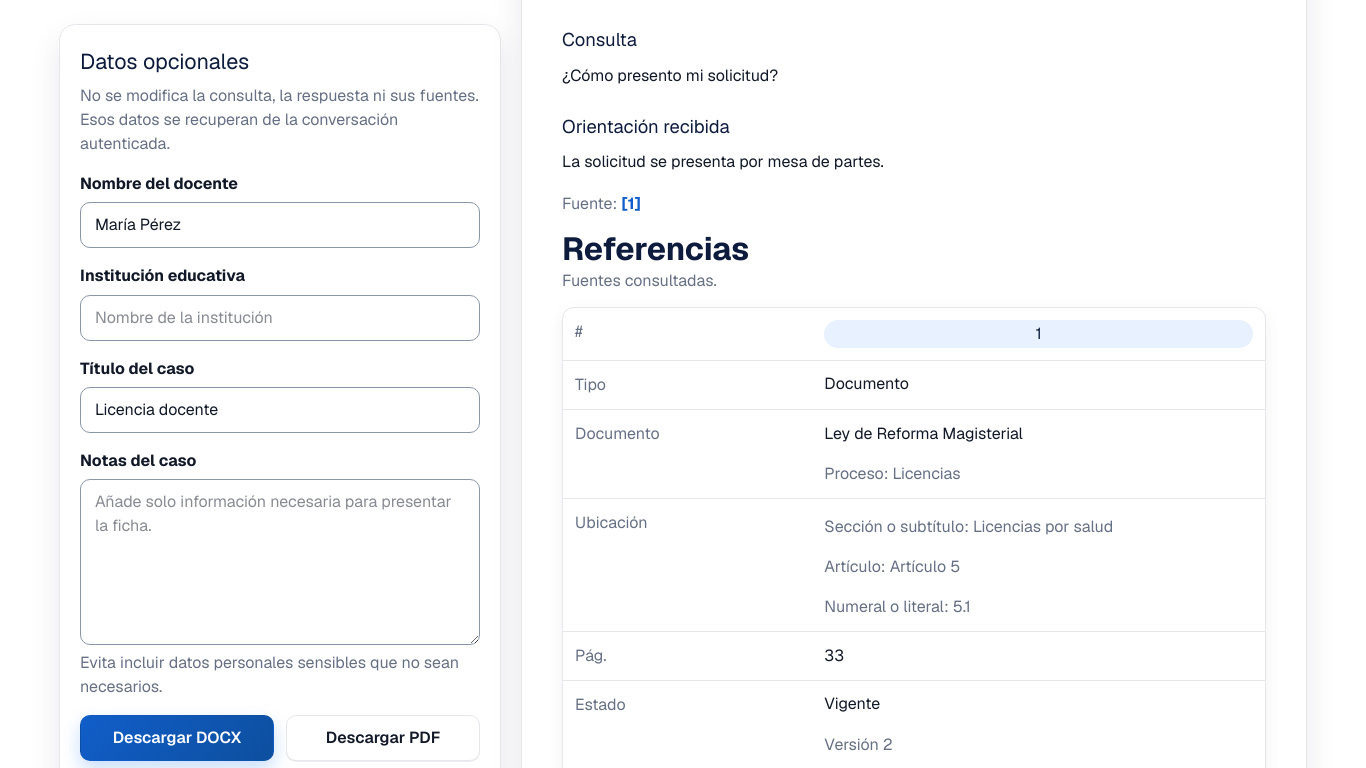
Scenario: OrientationPreview › reports a transport interruption without exposing exception details
(page scrolled)
Click the button "Descargar DOCX" at (177, 738), box [80,715,274,761]
(page scrolled)
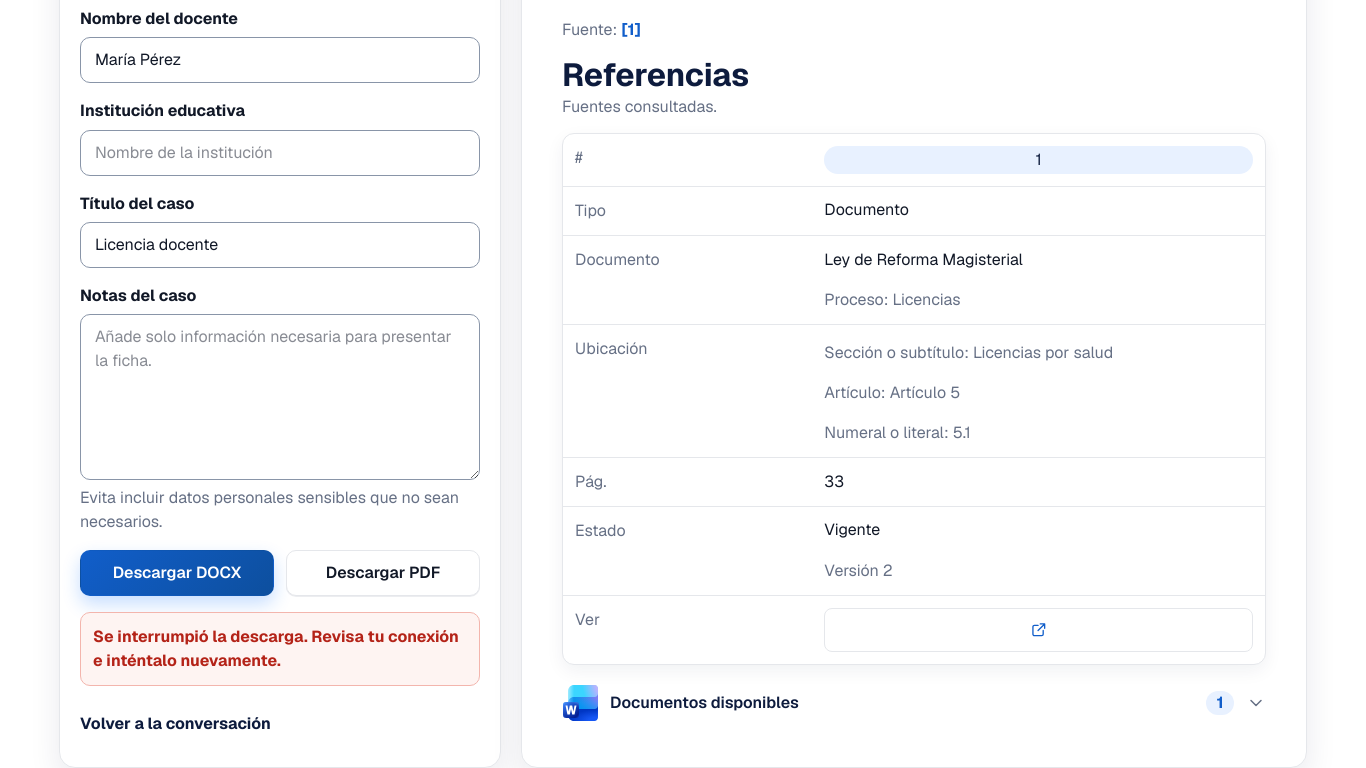
Expected: the message does not show "secret transport detail", [80,612,480,686]
Result: the message shows "Se interrumpió la descarga" at [93,626,459,671]
